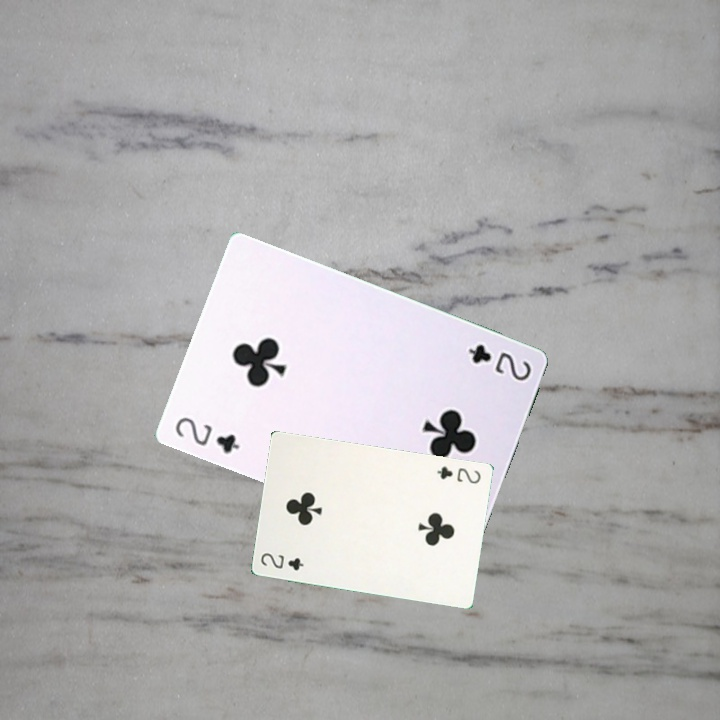2c: (464, 340, 534, 384), (171, 413, 242, 456), (433, 462, 483, 486), (257, 549, 306, 573)
